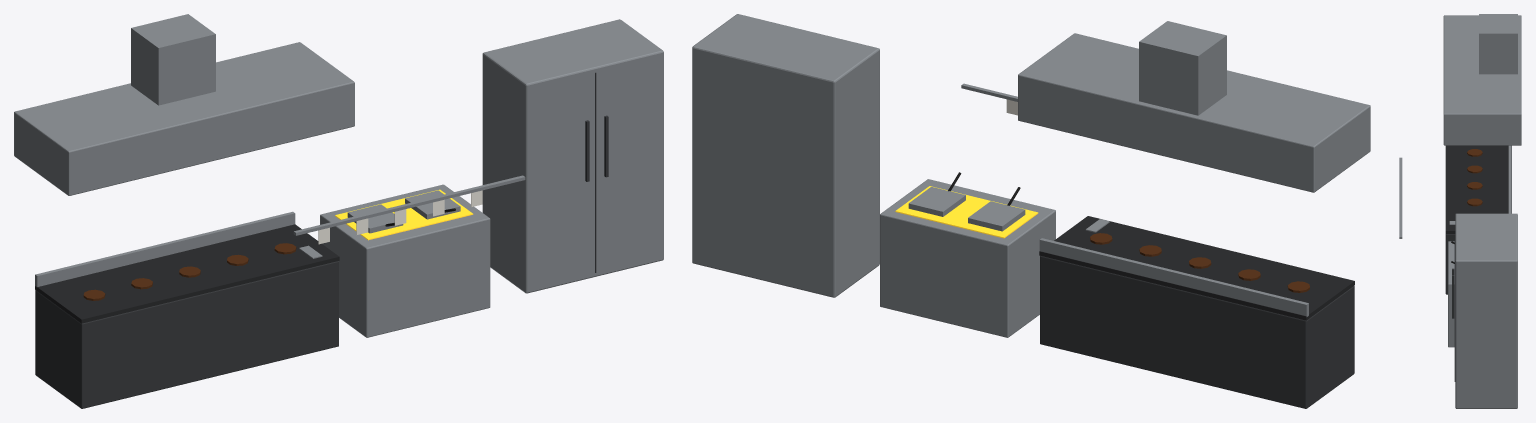
Rendered from kitchen.glb.
The picture shows the model from 3 angles, left to right: view 1: azimuth 30°, elevation 25°; view 2: azimuth 150°, elevation 25°; view 3: azimuth 270°, elevation 25°; orthographic projection. The views are drawn at different scales.
Parts seen in each view (by area): view 1: fridge, hood, grill_body, fryer, grill_top, hood_duct, grill_lip, oil, ticket_rail, basket, basket.001; view 2: fridge, hood, grill_body, fryer, grill_top, hood_duct, grill_lip, oil, basket, basket.001; view 3: fridge, hood, grill_top, hood_duct, fryer, ticket_rail, fridge_split, grill_lip, grill_body, fridge_handle.001.
Boxes of the visible parts, x1,y1,x2,y2 form: fridge: (482,19,663,293); hood: (14,42,354,195); grill_body: (35,261,338,408); fryer: (320,184,490,337); grill_top: (35,224,339,323); hood_duct: (131,14,215,105); grill_lip: (35,211,295,287); oil: (335,189,473,240); ticket_rail: (293,175,525,235); basket: (347,204,403,233); basket.001: (405,190,460,219); fridge: (692,14,879,297); hood: (1018,33,1370,192); grill_body: (1040,255,1354,408); fryer: (880,179,1055,337); grill_top: (1039,216,1354,320); hood_duct: (1139,21,1226,115); grill_lip: (1039,238,1308,316); oil: (895,186,1038,238); basket: (968,201,1025,231); basket.001: (908,187,965,216); fridge: (1455,213,1517,408); hood: (1443,15,1521,145); grill_top: (1445,145,1511,233); hood_duct: (1479,14,1517,74); fryer: (1448,241,1454,347); ticket_rail: (1399,157,1402,238); fridge_split: (1454,240,1455,381); grill_lip: (1508,145,1511,213); grill_body: (1445,234,1455,294); fridge_handle.001: (1452,275,1454,318).
Size of the model in its own units: 6.32 by 3.2 by 1.57.
